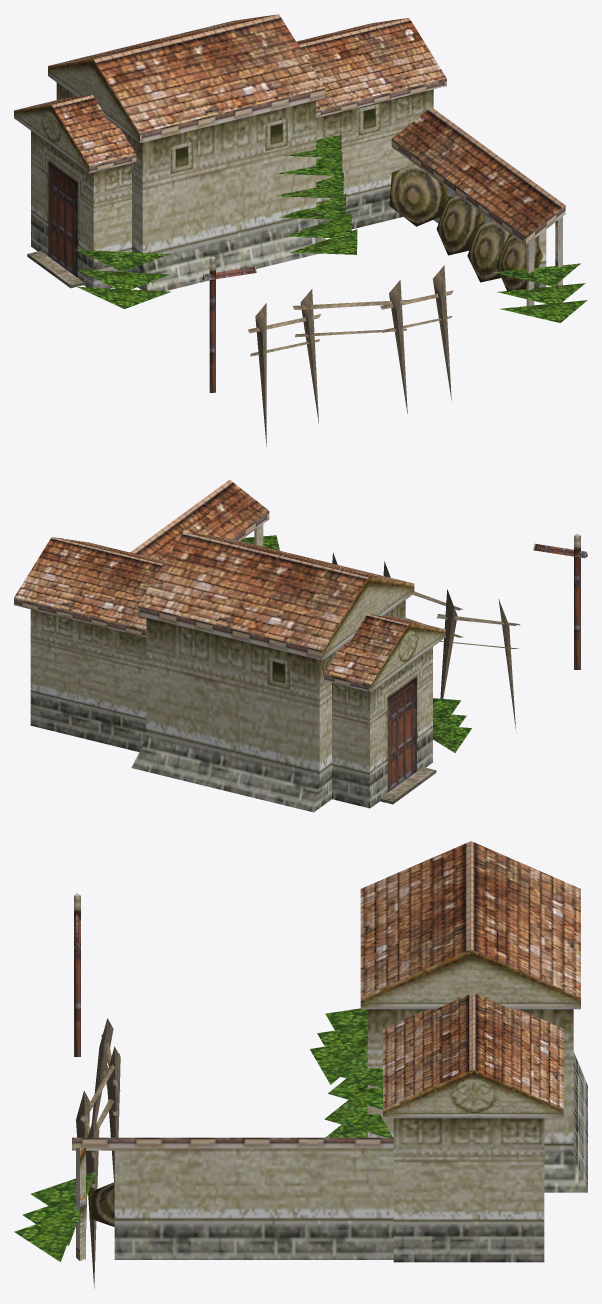
The model's file is idle.glb.
3 views of the same model, one above another, from view 1: azimuth 30°, elevation 25°; view 2: azimuth 150°, elevation 25°; view 3: azimuth 270°, elevation 25° (orthographic). The views are drawn at different scales.
Parts seen in each view (by area): view 1: MeshRoot; view 2: MeshRoot; view 3: MeshRoot.
Part boxes in pixels (box(x1,y1,x2,y2)): MeshRoot: box(14, 14, 587, 446); MeshRoot: box(14, 479, 587, 812); MeshRoot: box(14, 841, 587, 1288).
Bounding box in the file's own units: 8.06 × 5.62 × 8.83.
Materials: 4 (4 with a texture image).
